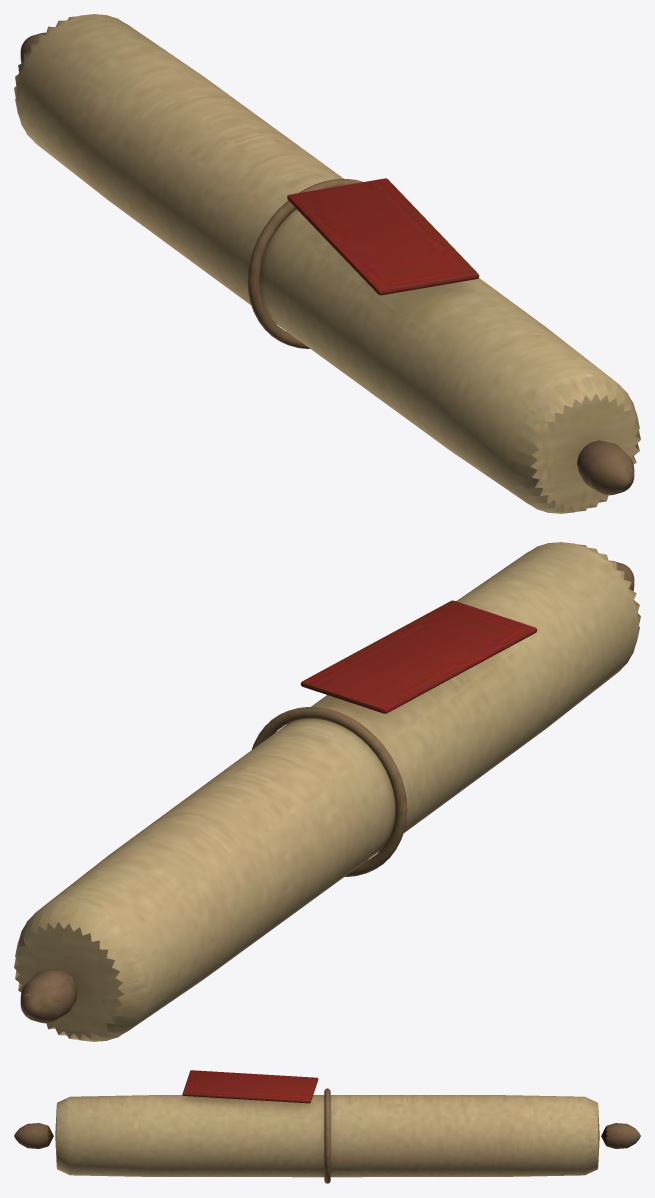
The model's file is aeneas.glb.
3 renders of one model, top to bottom at view 1: azimuth 30°, elevation 25°; view 2: azimuth 150°, elevation 25°; view 3: azimuth 270°, elevation 25°, orthographic. The views are drawn at different scales.
Parts seen in each view (by area): view 1: aeneas; view 2: aeneas; view 3: aeneas.
Boxes of the visible parts, x1,y1,x2,y2 form: aeneas: [14, 14, 640, 513]; aeneas: [14, 542, 640, 1041]; aeneas: [14, 1070, 640, 1183].
Bounding box in the file's own units: 0.0369 × 0.038 × 0.2417.
1 material, 1 textured.
